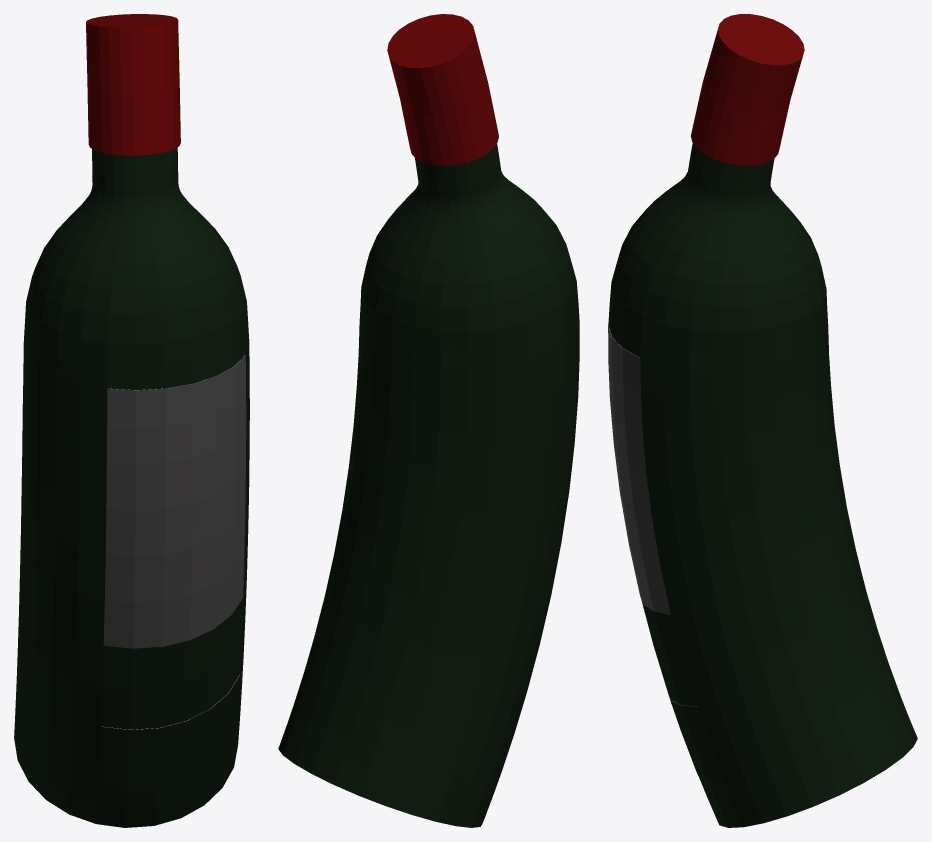
Rendered from bend_medium_0.obj.
The picture shows the model from 3 angles, left to right: view 1: azimuth 30°, elevation 25°; view 2: azimuth 150°, elevation 25°; view 3: azimuth 270°, elevation 25°; orthographic projection. The views are drawn at different scales.
Parts seen in each view (by area): view 1: model; view 2: model; view 3: model.
Part boxes in pixels (bbox=[...]): model: bbox=[14, 14, 249, 827]; model: bbox=[278, 14, 579, 827]; model: bbox=[608, 14, 917, 827].
Size of the model in its own units: 0.0796 by 0.2615 by 0.0938.
1 material, 1 textured.
